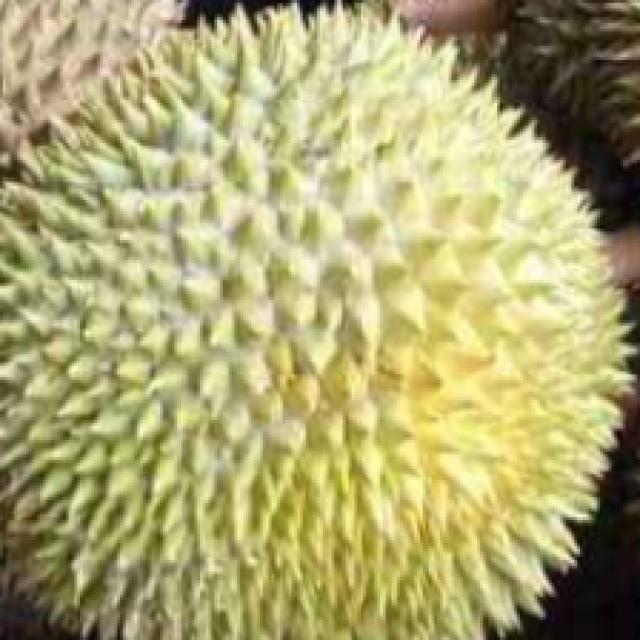d24: (4, 19, 633, 617)
